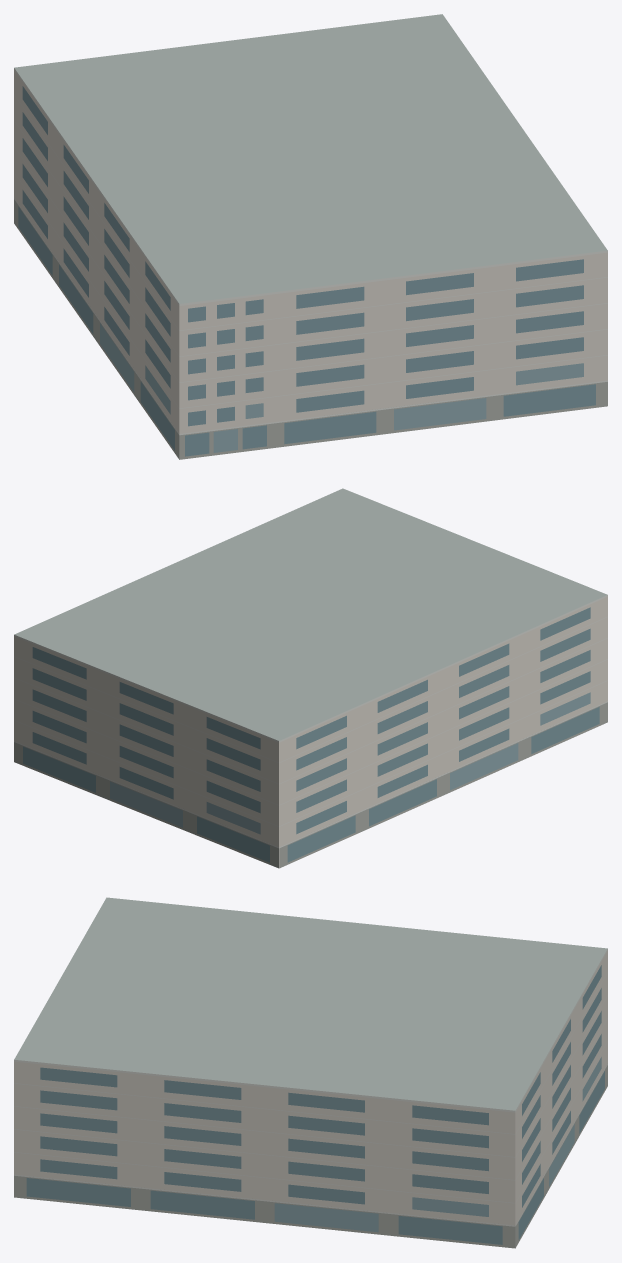
File: residential-51f4a3c3-6e93-4bb1-9d8b-30e797aa9091.glb
The picture shows the model from 3 angles, top to bottom: view 1: azimuth 30°, elevation 25°; view 2: azimuth 150°, elevation 25°; view 3: azimuth 270°, elevation 25°; orthographic projection. The views are drawn at different scales.
Visible parts, largest first — view 1: residential-51f4a3c3-6e93-4bb1-9d8b-30e797aa9091.tmp; view 2: residential-51f4a3c3-6e93-4bb1-9d8b-30e797aa9091.tmp; view 3: residential-51f4a3c3-6e93-4bb1-9d8b-30e797aa9091.tmp.
Boxes of the visible parts, left/top/right/bottom form: residential-51f4a3c3-6e93-4bb1-9d8b-30e797aa9091.tmp: left=14, top=14, right=607, bottom=459; residential-51f4a3c3-6e93-4bb1-9d8b-30e797aa9091.tmp: left=14, top=488, right=607, bottom=868; residential-51f4a3c3-6e93-4bb1-9d8b-30e797aa9091.tmp: left=14, top=897, right=607, bottom=1248.
Size of the model in its own units: 60.79 by 18.3 by 71.52.
